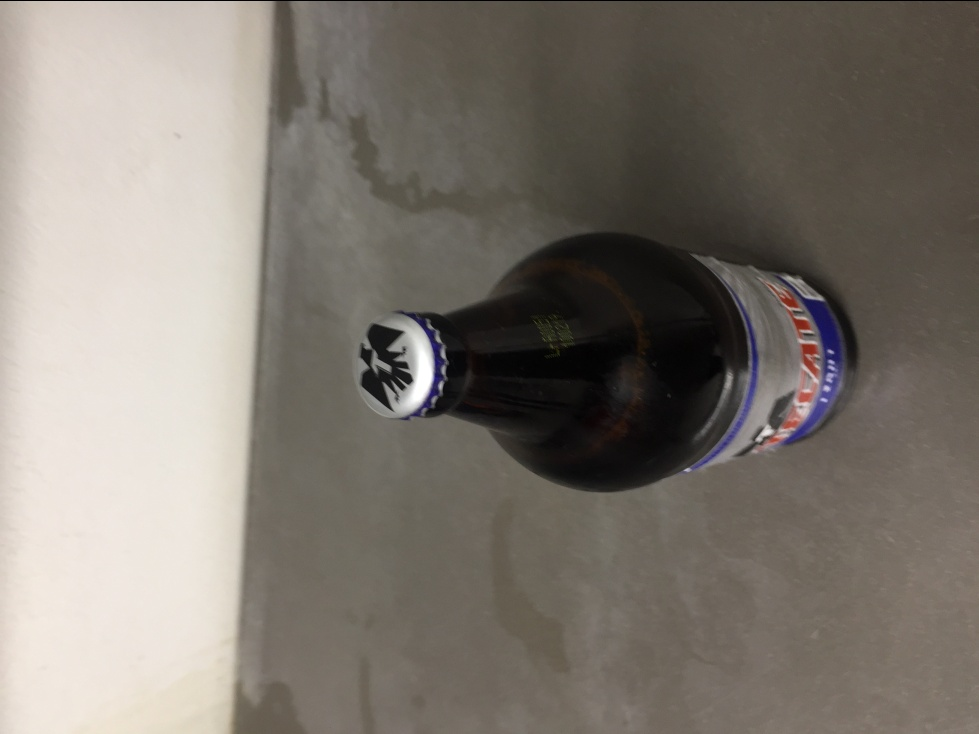tecateC: (351, 234, 859, 496)
